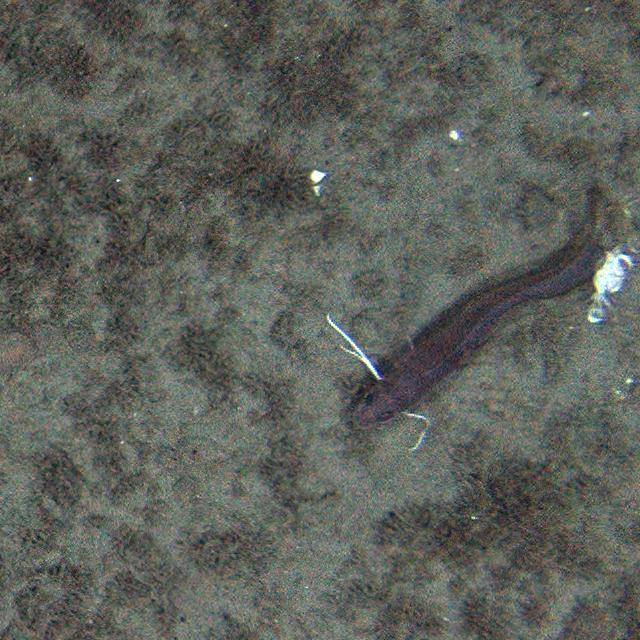roundfish: (316, 182, 612, 467)
